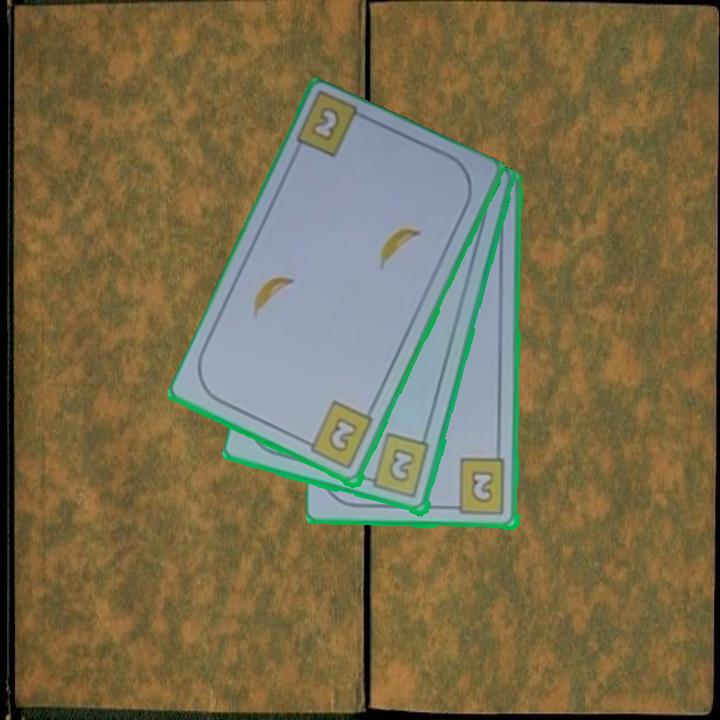2b: (299, 398, 376, 473), (361, 431, 433, 501), (446, 457, 509, 518), (310, 106, 340, 141)
